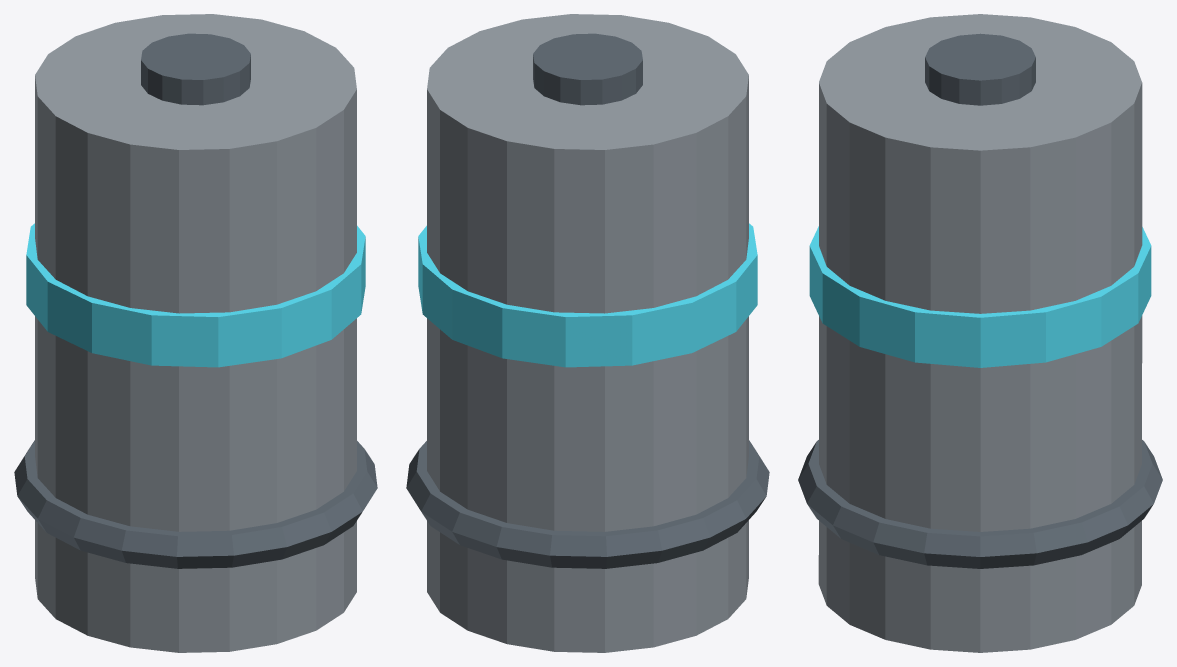
File: 1_Volatile.fbx
3 views of the same model, side by side, from view 1: azimuth 30°, elevation 25°; view 2: azimuth 150°, elevation 25°; view 3: azimuth 270°, elevation 25° (orthographic).
Visible parts, largest first — view 1: Body; view 2: Body; view 3: Body.
Boxes of the visible parts, x1=… form: Body: x1=14, y1=14, x2=377, y2=652; Body: x1=406, y1=14, x2=769, y2=652; Body: x1=798, y1=14, x2=1162, y2=652.
Bounding box in the file's own units: 0.79 × 1.26 × 0.79.
